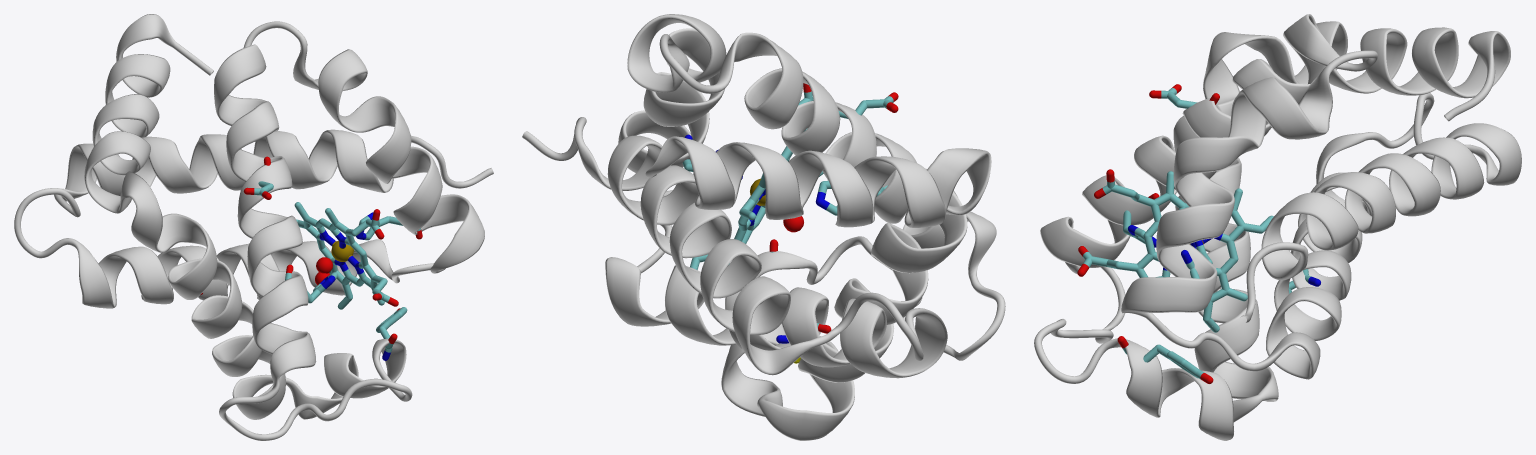
The model's file is frame26.gltf.
3 renders of one model, left to right at view 1: azimuth 30°, elevation 25°; view 2: azimuth 150°, elevation 25°; view 3: azimuth 270°, elevation 25°, orthographic. The views are drawn at different scales.
Parts seen in each view (by area): view 1: vmd_mol26_rep3, vmd_mol26_rep2, vmd_mol26_rep1; view 2: vmd_mol26_rep3, vmd_mol26_rep1, vmd_mol26_rep2; view 3: vmd_mol26_rep3, vmd_mol26_rep2, vmd_mol26_rep1.
Part boxes in pixels (x1,y1,x2,y2): vmd_mol26_rep3: [14, 14, 493, 440]; vmd_mol26_rep2: [294, 202, 398, 309]; vmd_mol26_rep1: [200, 156, 422, 360]; vmd_mol26_rep3: [522, 14, 1005, 440]; vmd_mol26_rep1: [682, 92, 898, 363]; vmd_mol26_rep2: [734, 83, 823, 243]; vmd_mol26_rep3: [1034, 14, 1521, 440]; vmd_mol26_rep2: [1077, 169, 1273, 332]; vmd_mol26_rep1: [1117, 84, 1320, 383].
Size of the model in its own units: 1.41 by 1.17 by 1.28.
